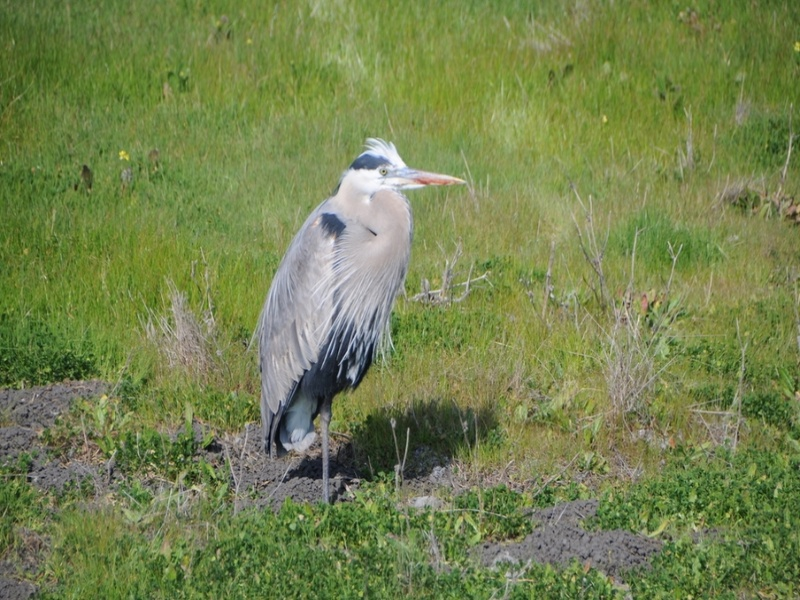heron: (247, 134, 471, 474)
